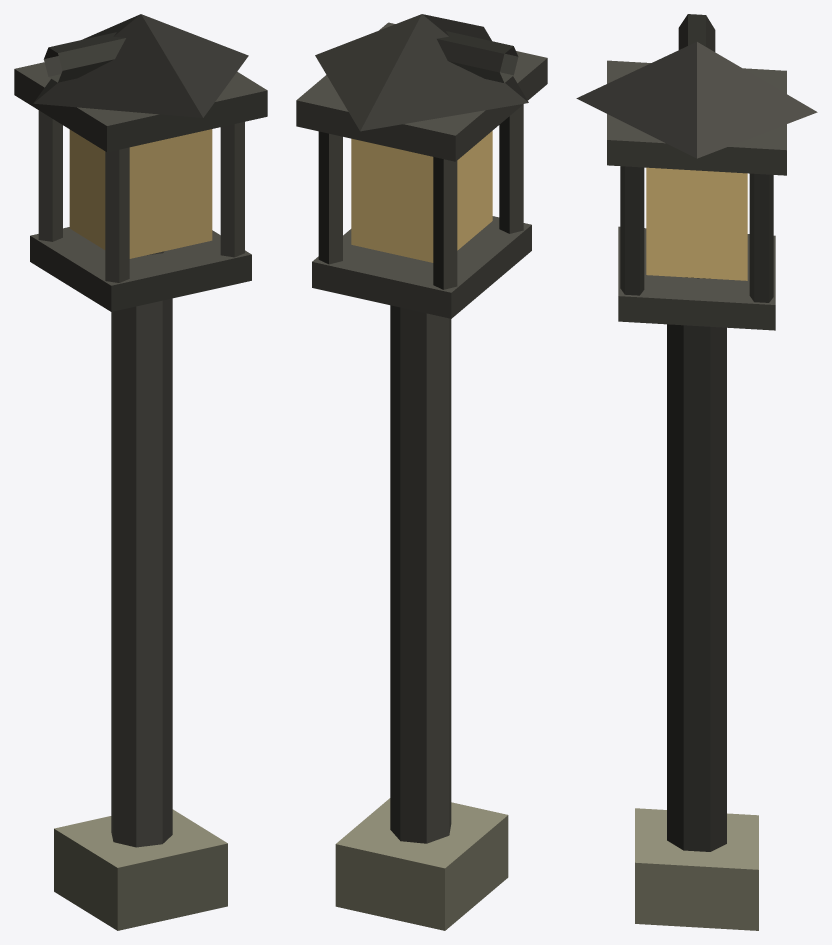
The picture shows the model from 3 angles, left to right: view 1: azimuth 30°, elevation 25°; view 2: azimuth 150°, elevation 25°; view 3: azimuth 270°, elevation 25°; orthographic projection. The views are drawn at different scales.
Visible parts, largest first — view 1: 280f2bbcb0f270420a534746c74c4385b56fd4fe6f5127f07043b16af21a; view 2: 280f2bbcb0f270420a534746c74c4385b56fd4fe6f5127f07043b16af21a; view 3: 280f2bbcb0f270420a534746c74c4385b56fd4fe6f5127f07043b16af21a.
Boxes of the visible parts, bbox=[...] form: 280f2bbcb0f270420a534746c74c4385b56fd4fe6f5127f07043b16af21a: bbox=[14, 14, 267, 930]; 280f2bbcb0f270420a534746c74c4385b56fd4fe6f5127f07043b16af21a: bbox=[296, 14, 547, 930]; 280f2bbcb0f270420a534746c74c4385b56fd4fe6f5127f07043b16af21a: bbox=[576, 14, 817, 930].
Size of the model in its own units: 0.86 by 3.39 by 0.86.
2 materials, 1 textured.
